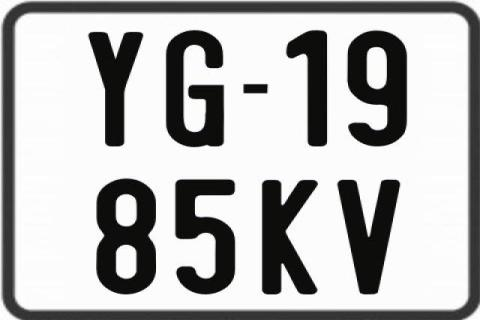0: (347, 30, 413, 148), (93, 177, 157, 297), (174, 178, 239, 294), (286, 28, 332, 149)
G: (165, 30, 226, 150)
K: (262, 178, 322, 292)
V: (336, 178, 400, 294)
Y: (87, 31, 144, 146)
